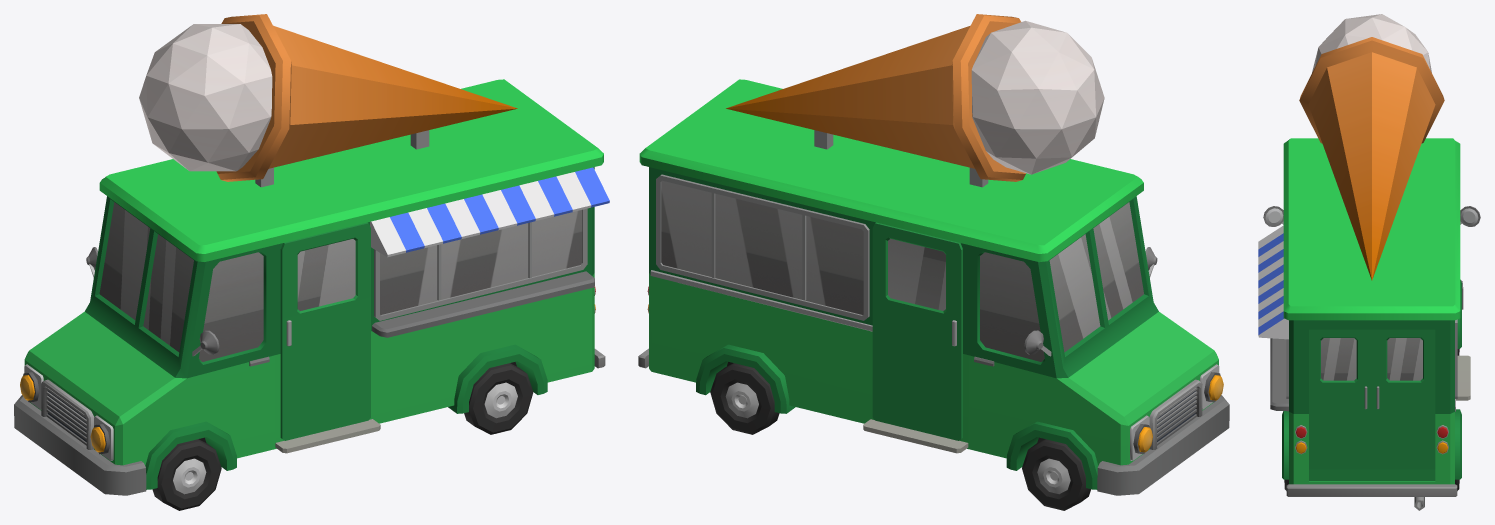
Rendered from IceTruck_1_G.gltf.
3 renders of one model, left to right at view 1: azimuth 30°, elevation 25°; view 2: azimuth 150°, elevation 25°; view 3: azimuth 270°, elevation 25°, orthographic. The views are drawn at different scales.
Parts seen in each view (by area): view 1: IceTruck_1_G, RL, FL; view 2: IceTruck_1_G, RR, FR; view 3: IceTruck_1_G.
Part boxes in pixels (x1,y1,x2,y2): IceTruck_1_G: (14, 14, 609, 495); RL: (464, 363, 533, 434); FL: (152, 439, 221, 510); IceTruck_1_G: (638, 14, 1229, 495); RR: (710, 363, 779, 434); FR: (1022, 439, 1090, 510); IceTruck_1_G: (1258, 14, 1480, 510).
Bounding box in the file's own units: 4.16 × 3.38 × 1.84.
4 materials, 4 textured.
